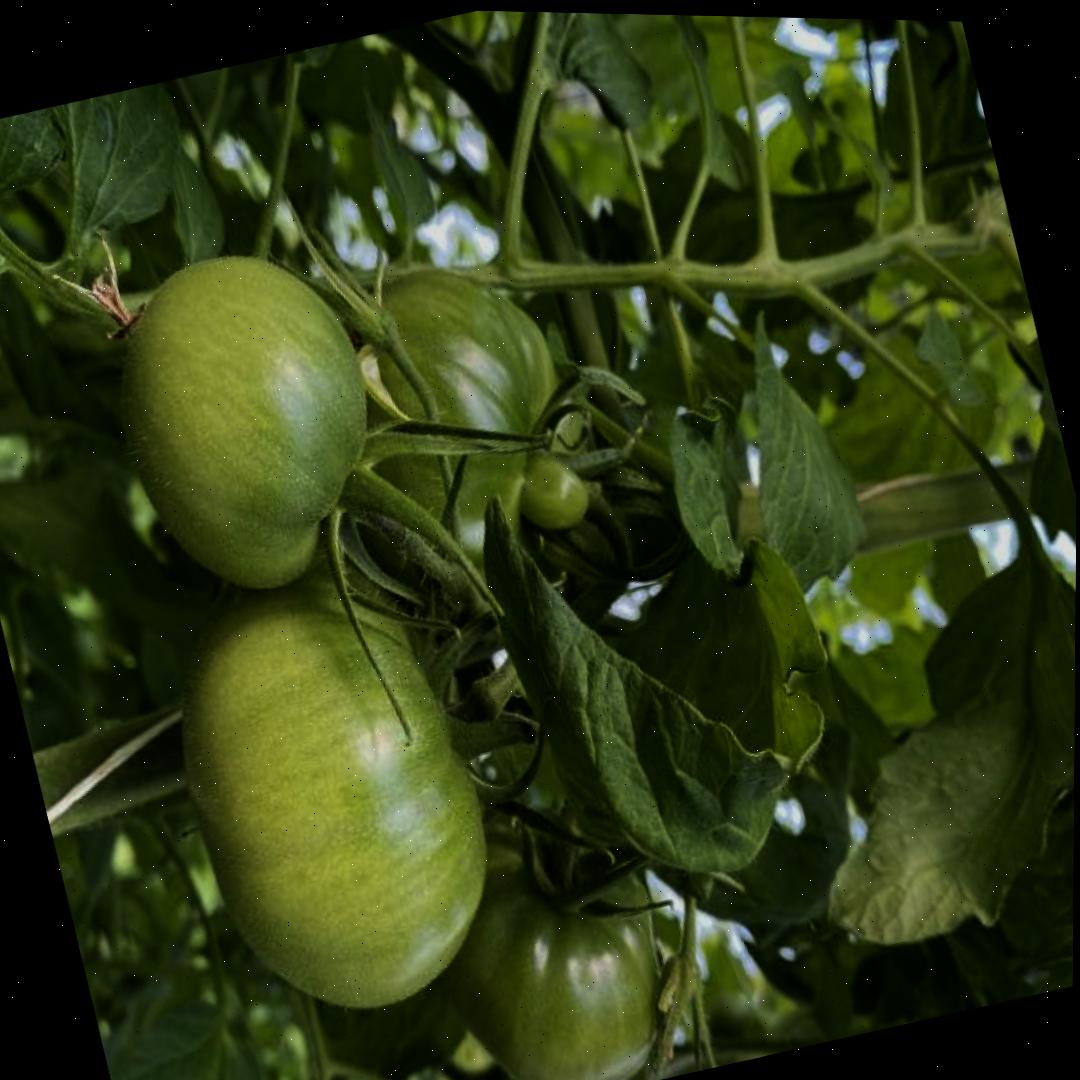mentah: (133, 505, 535, 1052), (83, 222, 412, 623)
